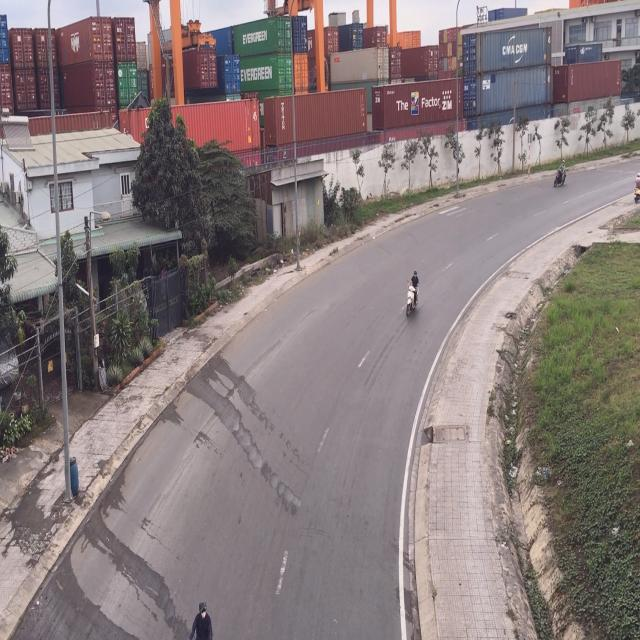motorbike: (188, 603, 218, 640), (404, 270, 422, 319), (553, 159, 567, 187), (634, 172, 640, 207)
